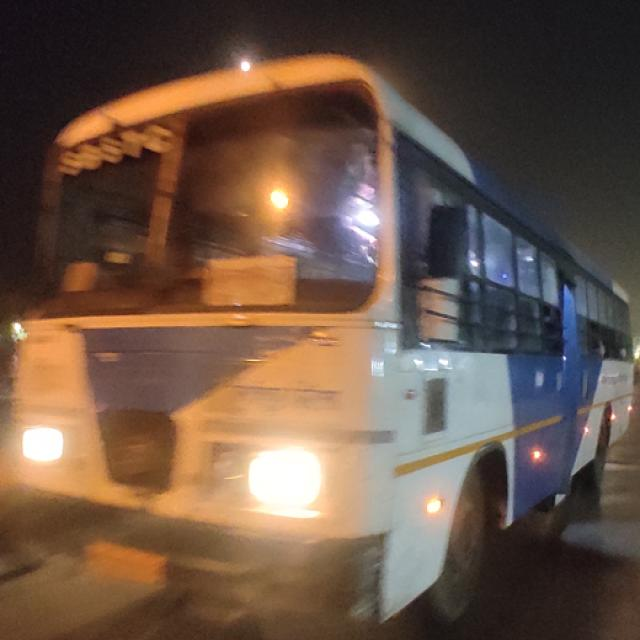bus: (16, 43, 634, 631)
